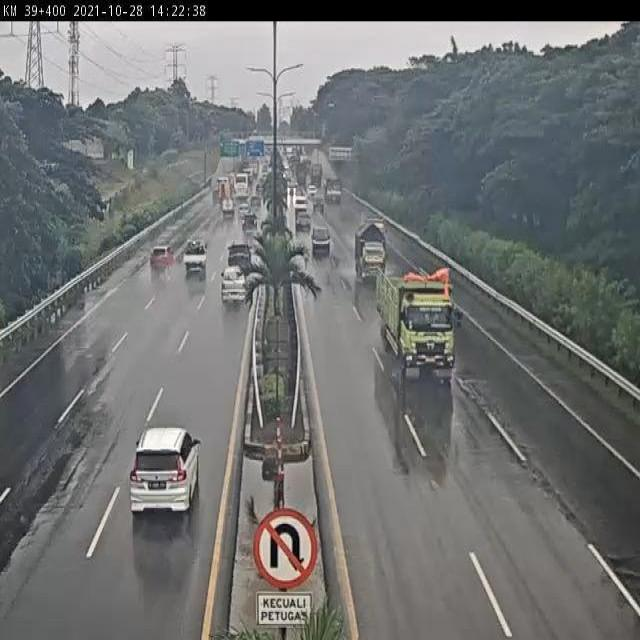truck-l-: (375, 265, 460, 376)
truck-s-: (356, 221, 388, 283)
